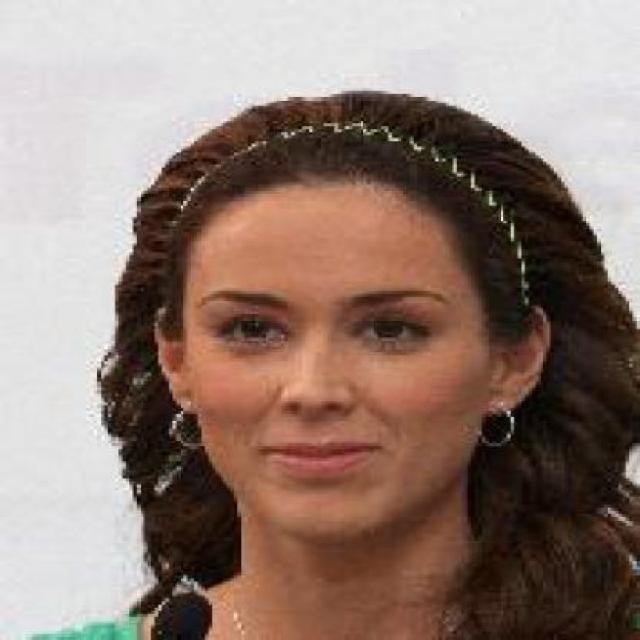closed-mouth: (249, 429, 385, 480)
